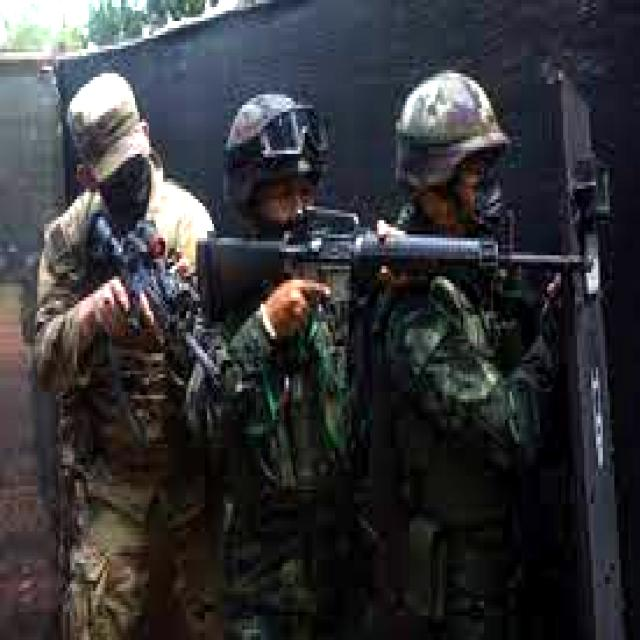m16: (186, 182, 607, 392)
